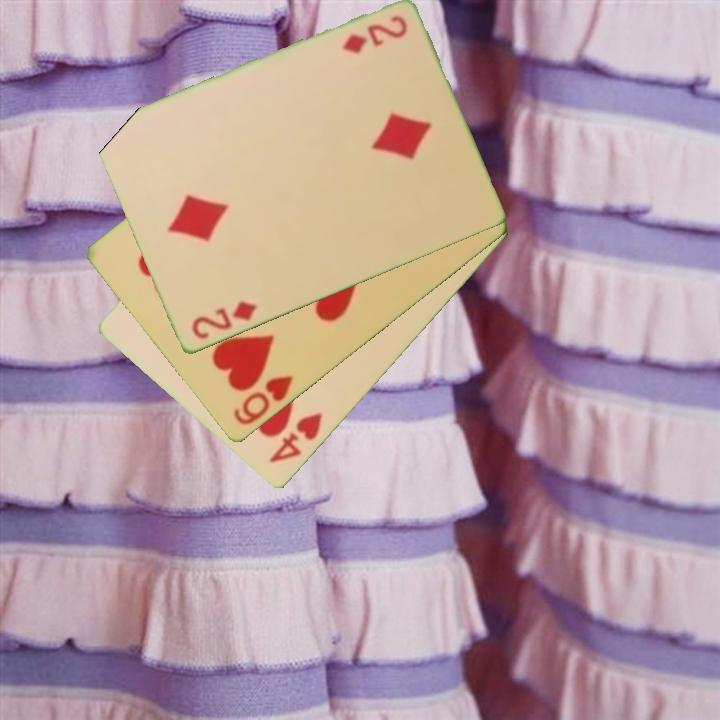2d: (187, 298, 260, 343), (338, 12, 411, 57)
4h: (266, 409, 326, 467)
6h: (229, 372, 296, 429)
